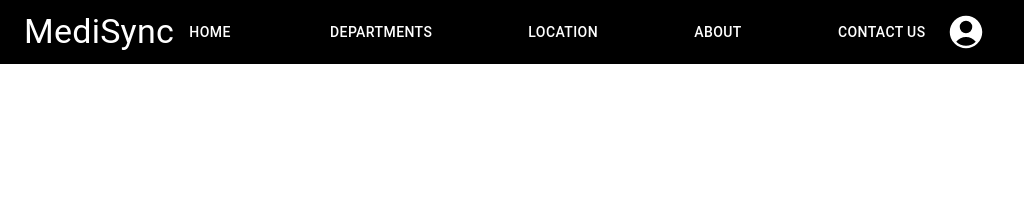
Test case: Navbar Component › opens and closes user menu correctly
Click the button named "Open settings".
click(969, 32)  # box left=938, top=4, right=1000, bottom=60
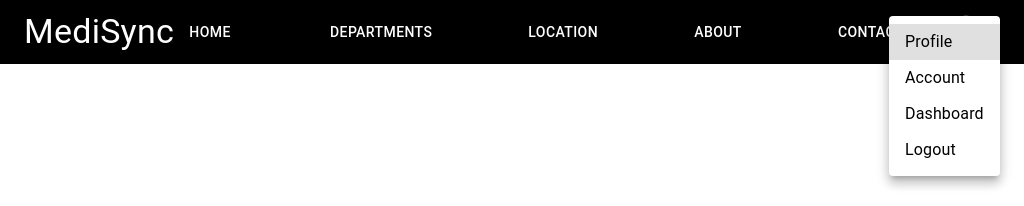
Expected: the text "Profile" is shown, left=905, top=30, right=952, bottom=54
Expected: the text "Account" is shown, left=905, top=66, right=965, bottom=90
Expected: the text "Dashboard" is shown, left=905, top=102, right=984, bottom=126
